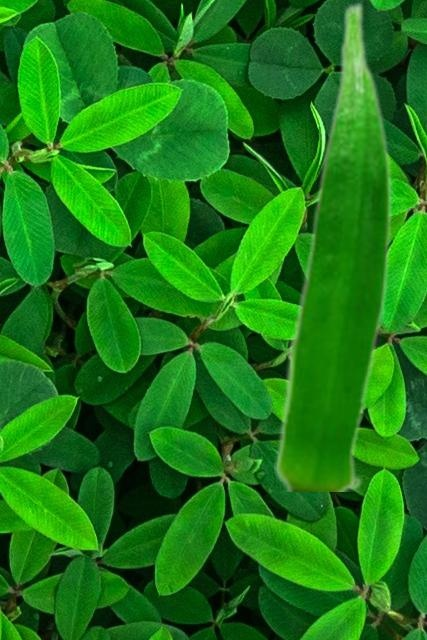okra: (274, 0, 393, 490)
